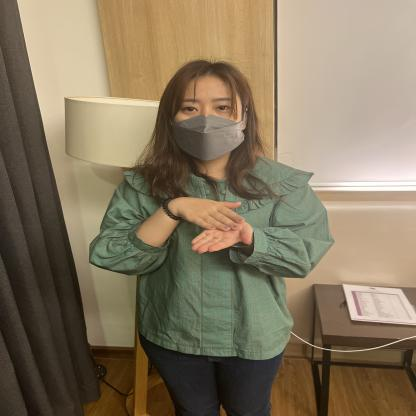Love: (53, 167, 337, 313)
